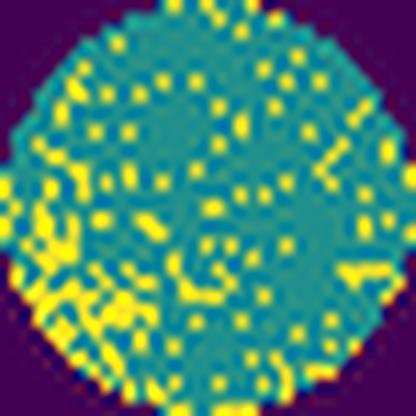Loc: (26, 258, 162, 383), (26, 180, 86, 272)
